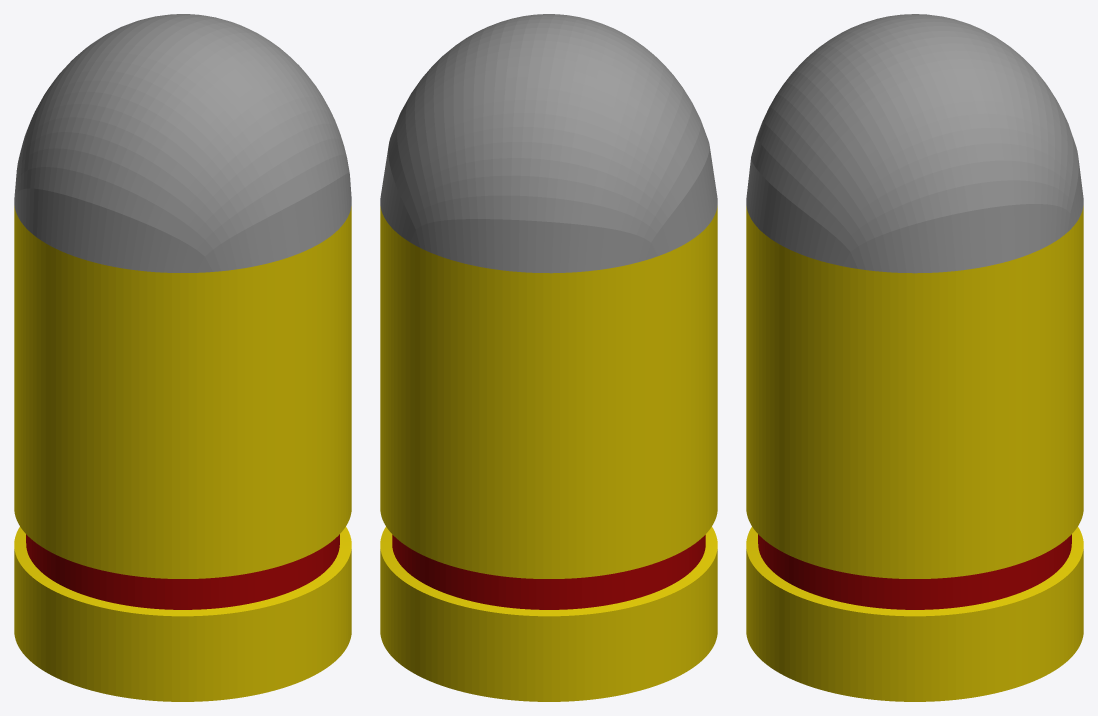
File: player.fbx
3 views of the same model, side by side, from view 1: azimuth 30°, elevation 25°; view 2: azimuth 150°, elevation 25°; view 3: azimuth 270°, elevation 25° (orthographic).
Parts seen in each view (by area): view 1: Cylinder; view 2: Cylinder; view 3: Cylinder.
Part boxes in pixels (x1=…): Cylinder: x1=14, y1=14, x2=351, y2=701; Cylinder: x1=380, y1=14, x2=717, y2=701; Cylinder: x1=746, y1=14, x2=1083, y2=701.
Size of the model in its own units: 200 by 394 by 200.
